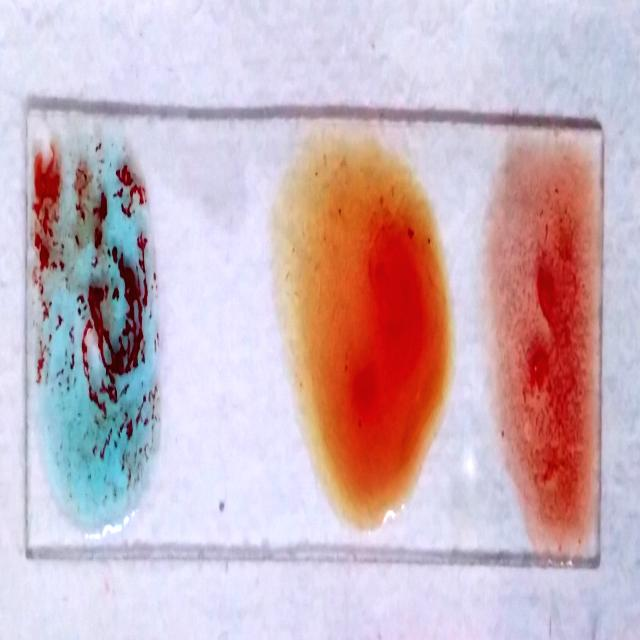A: (29, 126, 158, 534)
D: (496, 155, 596, 552)
